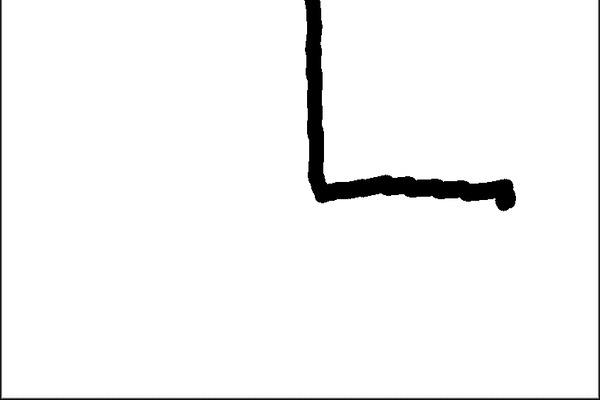L: (294, 1, 523, 221)
